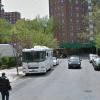Bus: (18, 42, 54, 77)
